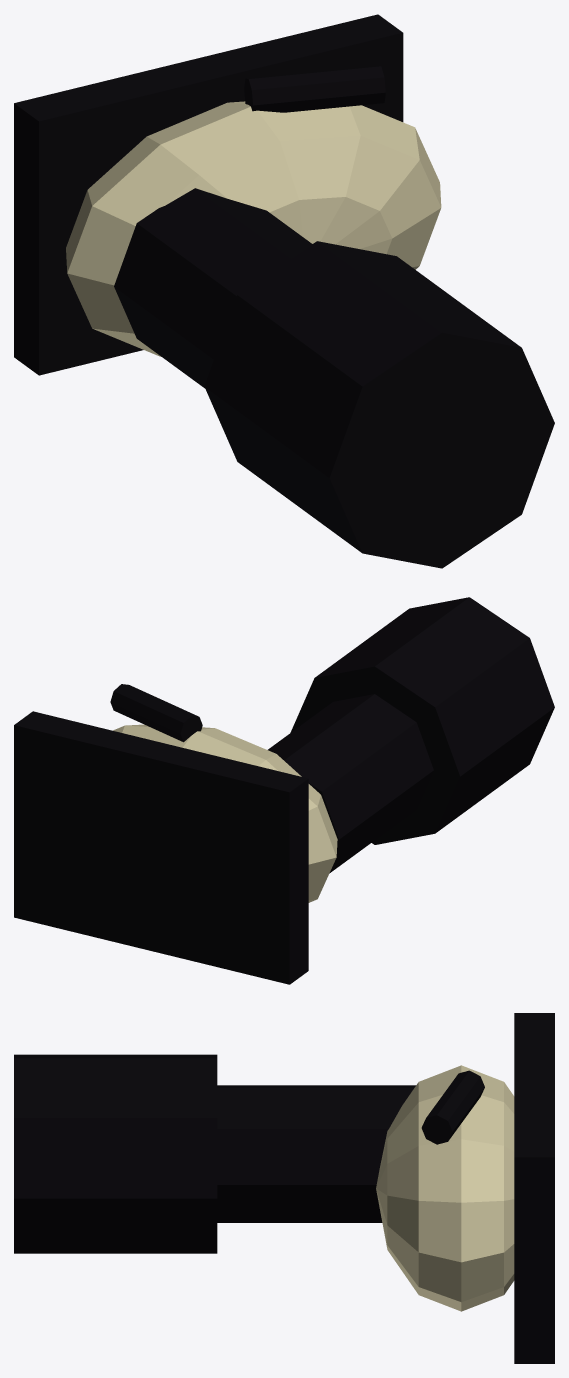
The model's file is Resident5LeftLeg.obj.
3 renders of one model, top to bottom at view 1: azimuth 30°, elevation 25°; view 2: azimuth 150°, elevation 25°; view 3: azimuth 270°, elevation 25°, orthographic. The views are drawn at different scales.
Parts seen in each view (by area): view 1: Resident5LeftLeg; view 2: Resident5LeftLeg; view 3: Resident5LeftLeg.
Part boxes in pixels (x1,y1,x2,y2): Resident5LeftLeg: (14,14,554,568); Resident5LeftLeg: (14,597,554,984); Resident5LeftLeg: (14,1013,554,1363).
Size of the model in its own units: 44.5 by 30 by 66.5.
